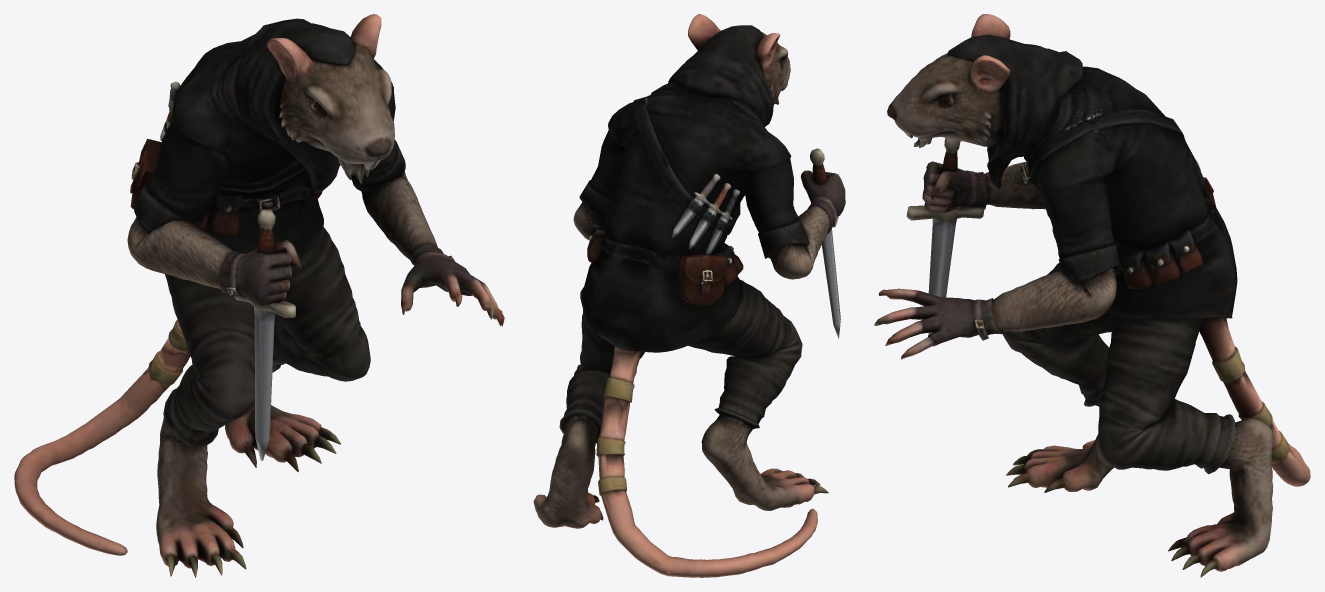
The model's file is MZ4250 - Ratfolk Rogue_Chocolate.glb.
3 renders of one model, left to right at view 1: azimuth 30°, elevation 25°; view 2: azimuth 150°, elevation 25°; view 3: azimuth 270°, elevation 25°, orthographic. The views are drawn at different scales.
Visible parts, largest first — view 1: Ratfolk.002; view 2: Ratfolk.002; view 3: Ratfolk.002.
Boxes of the visible parts, x1,y1,x2,y2 form: Ratfolk.002: (14,14,504,577); Ratfolk.002: (533,14,845,577); Ratfolk.002: (874,14,1310,577).
Size of the model in its own units: 0.3783 by 0.6074 by 0.4927.
Materials: 1 (1 with a texture image).
